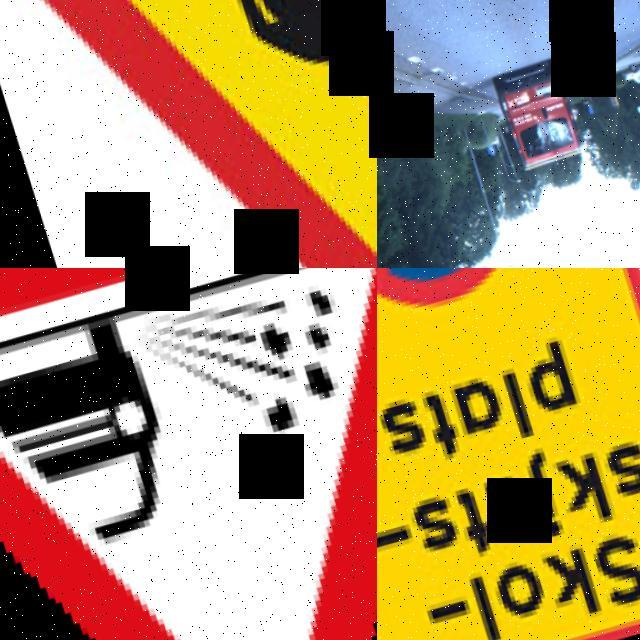156: (0, 0, 377, 268)
177: (377, 268, 640, 640)
Loose gravel: (0, 268, 377, 640)
